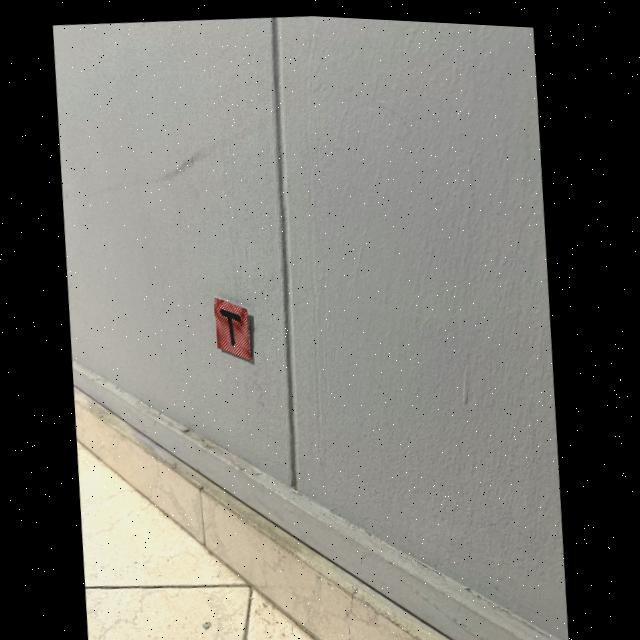T: (221, 306, 242, 343)
